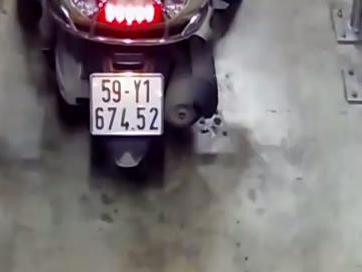num_plate: (89, 72, 164, 137)
